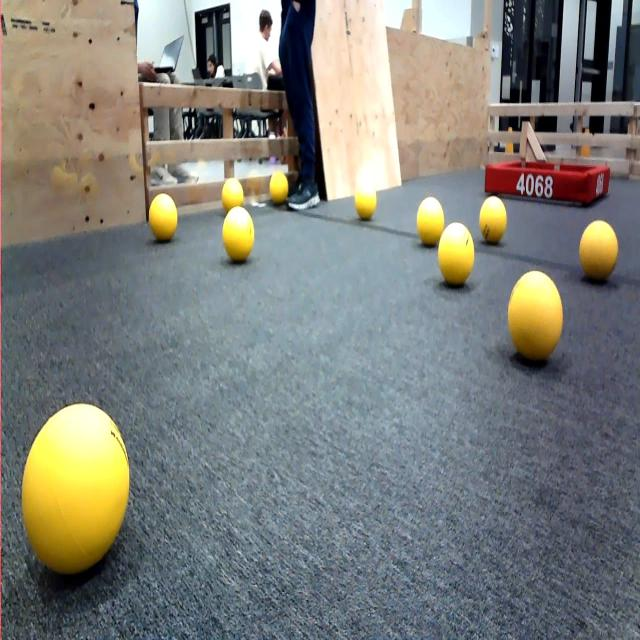Bumper: (476, 146, 622, 214)
fuel: (17, 394, 137, 591), (497, 267, 569, 369), (435, 216, 479, 294), (576, 216, 625, 278), (411, 191, 455, 260), (142, 186, 184, 252), (477, 187, 516, 257), (214, 206, 260, 263), (348, 169, 380, 237), (263, 165, 296, 209), (217, 171, 247, 209)
